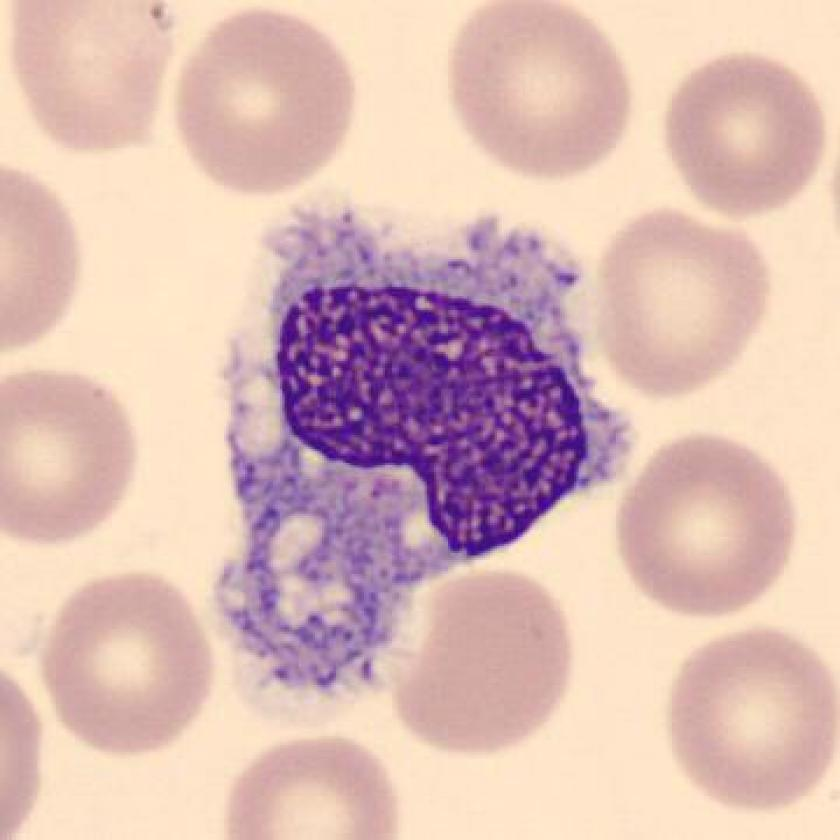monocyte: (171, 175, 678, 723)
